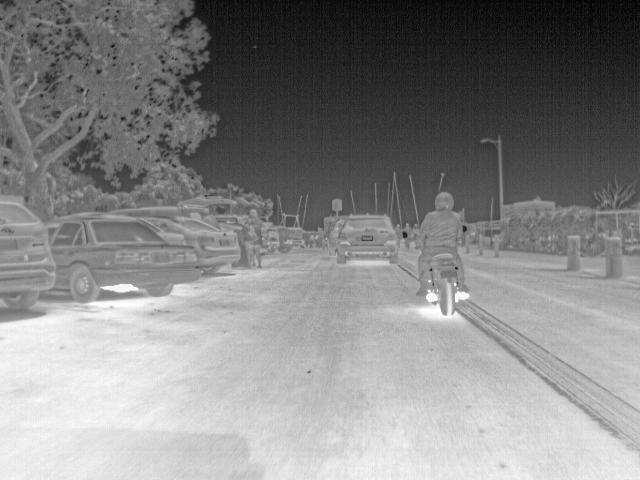car: (51, 214, 207, 300), (1, 196, 56, 315), (337, 212, 398, 266), (183, 218, 236, 276), (179, 195, 238, 217), (102, 206, 210, 218), (276, 224, 302, 255)
person: (418, 192, 466, 294), (245, 207, 264, 268)
